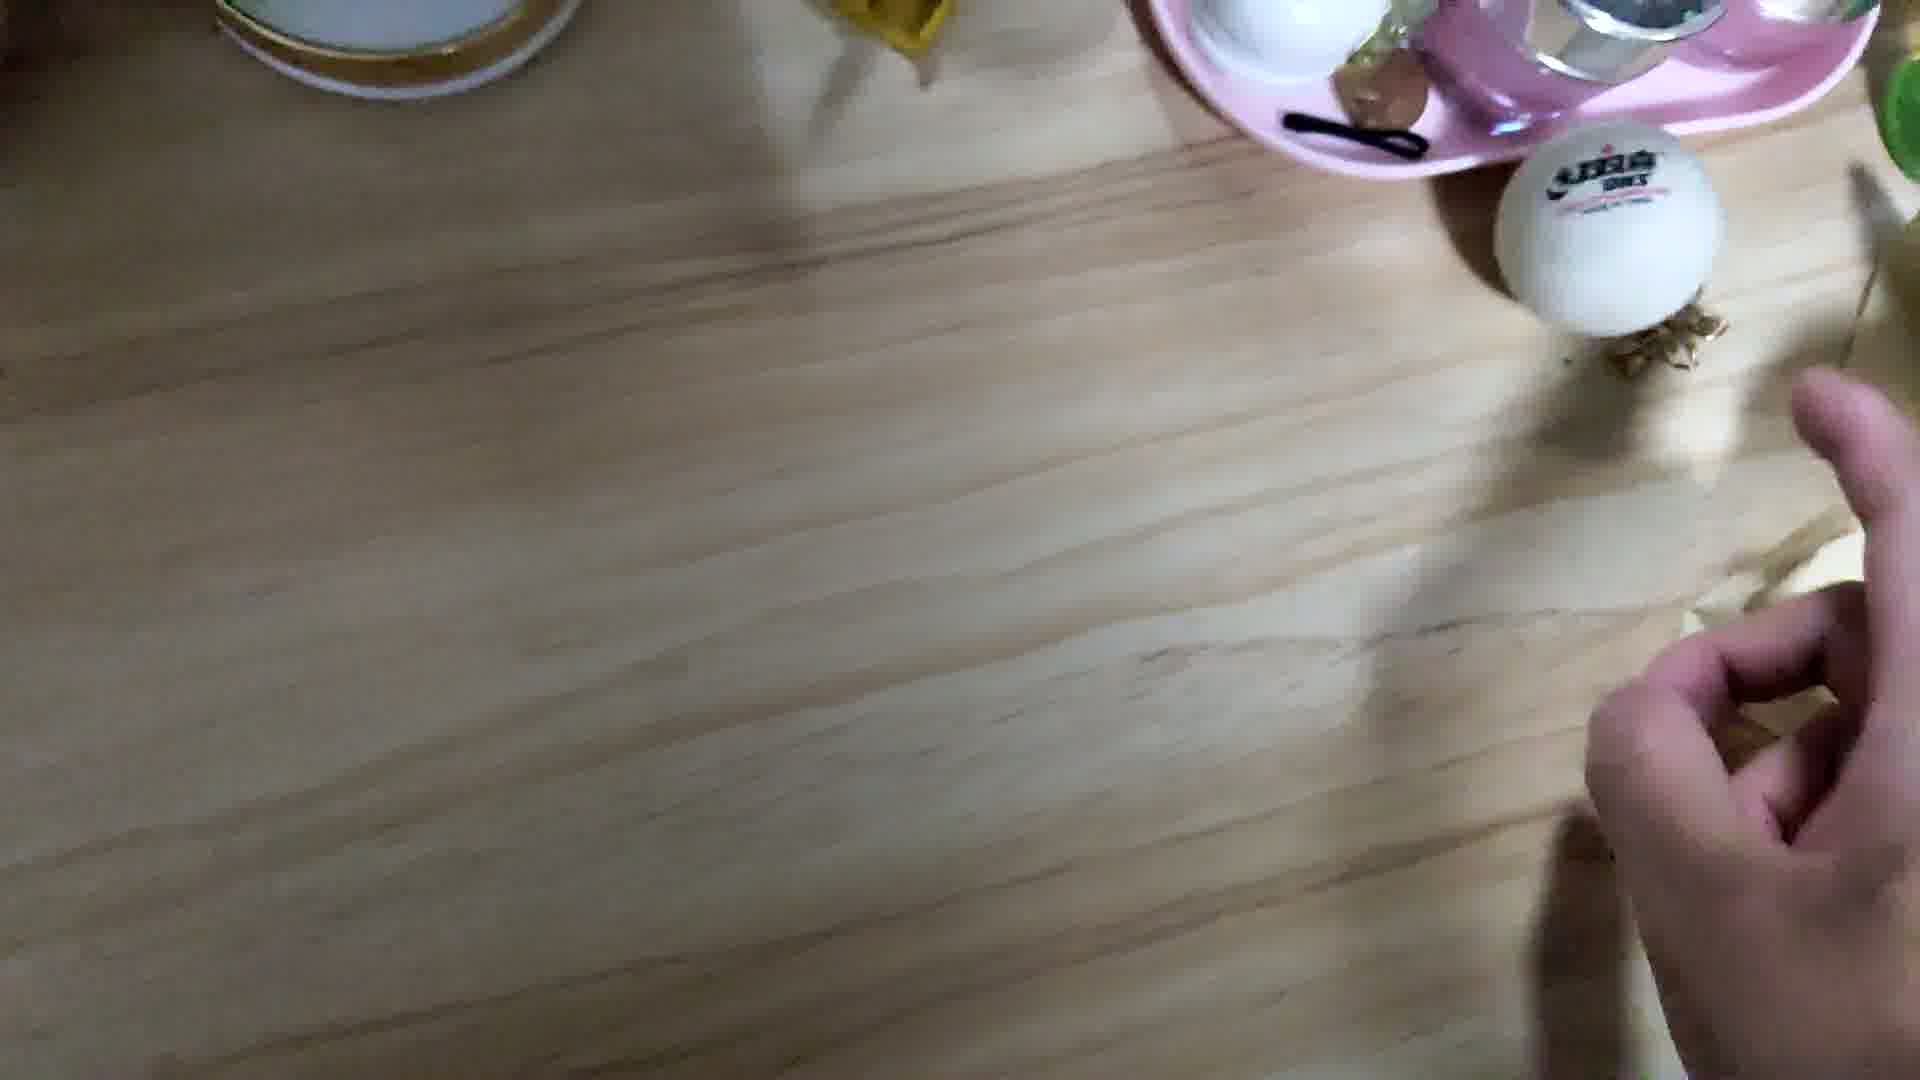Ball: (1493, 121, 1720, 335)
